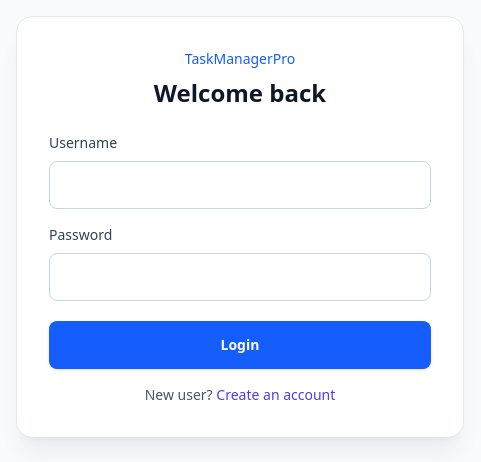
Scenario: Login › shows a disabled signing-in state while the request is pending
This screenshot has width=481, height=462.
Type "user" into the field labelled "Username" at (240, 185), box [49, 161, 431, 209]
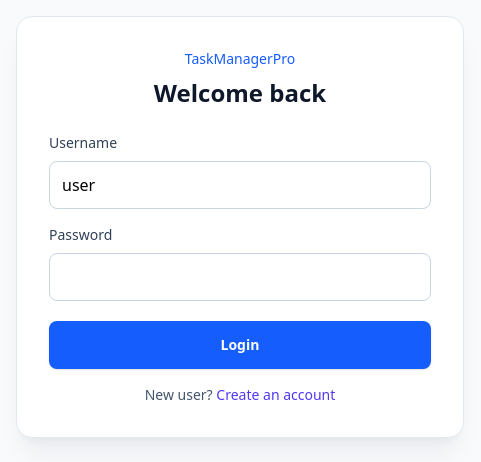
Type "Password123!" into the password field labelled "Password" at (240, 277), box [49, 253, 431, 301]
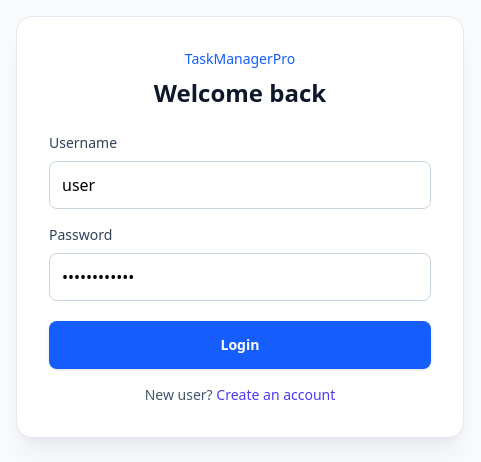
Submit the form "Login", box [49, 133, 431, 369]
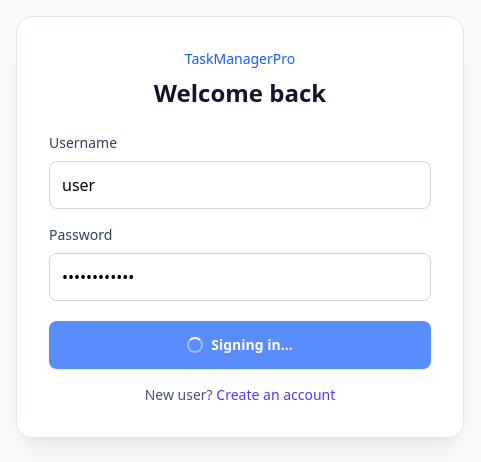
Expected: the button named "Login" is disabled, [49, 321, 431, 369]
Expected: the message named "Signing in" is shown, [187, 337, 203, 353]
